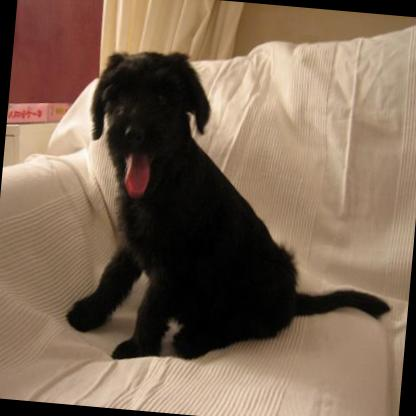briard: (62, 41, 414, 383)
